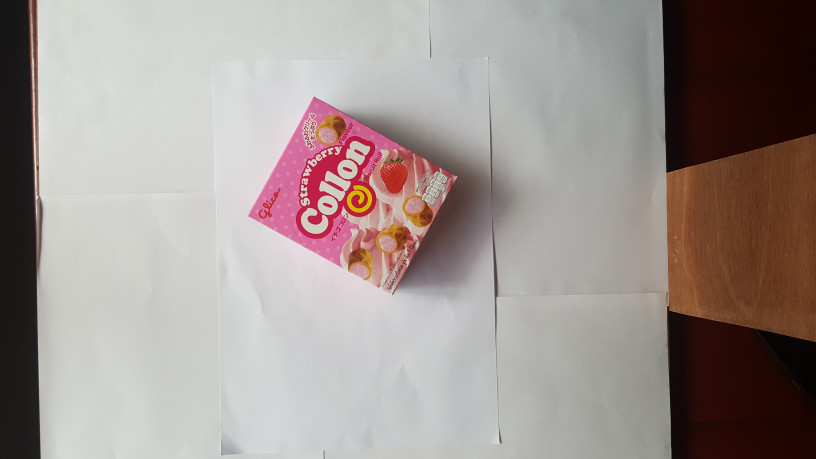collon-strawberry: (245, 97, 462, 297)
